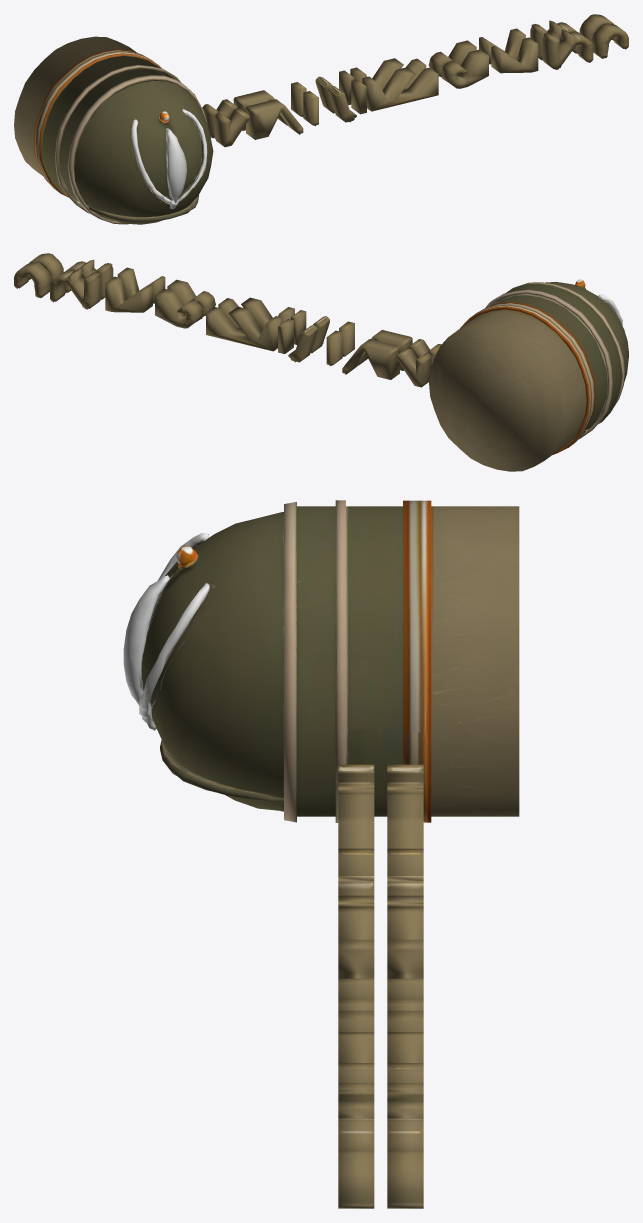
File: selected.glb
3 views of the same model, one above another, from view 1: azimuth 30°, elevation 25°; view 2: azimuth 150°, elevation 25°; view 3: azimuth 270°, elevation 25° (orthographic). The views are drawn at different scales.
Parts seen in each view (by area): view 1: tripo_node_bacef6ee-40e5-4f9a-a985-588afc233d09; view 2: tripo_node_bacef6ee-40e5-4f9a-a985-588afc233d09; view 3: tripo_node_bacef6ee-40e5-4f9a-a985-588afc233d09.
Boxes of the visible parts, x1,y1,x2,y2 form: tripo_node_bacef6ee-40e5-4f9a-a985-588afc233d09: (14, 14, 628, 224); tripo_node_bacef6ee-40e5-4f9a-a985-588afc233d09: (14, 253, 628, 471); tripo_node_bacef6ee-40e5-4f9a-a985-588afc233d09: (123, 500, 519, 1208).
Size of the model in its own units: 0.998 by 0.2441 by 0.2988.
Materials: 1 (1 with a texture image).
